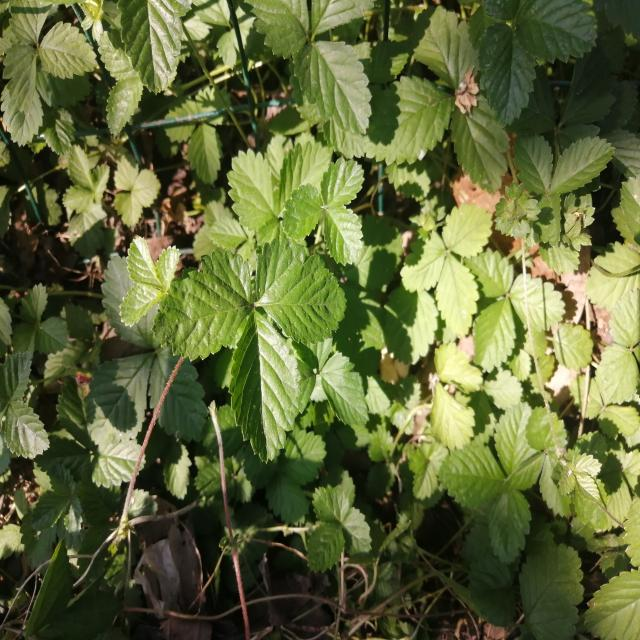Mock_strawberry: (163, 211, 365, 449)
